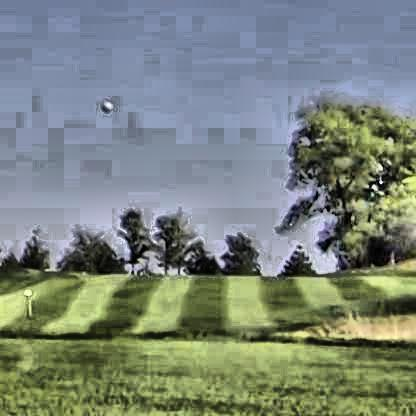golfball: (99, 99, 110, 110)
